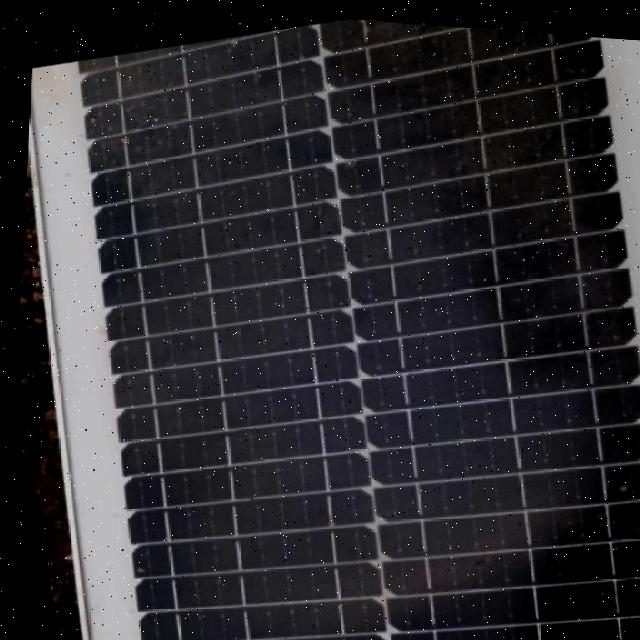Surface Contaminant: (35, 14, 640, 640)
